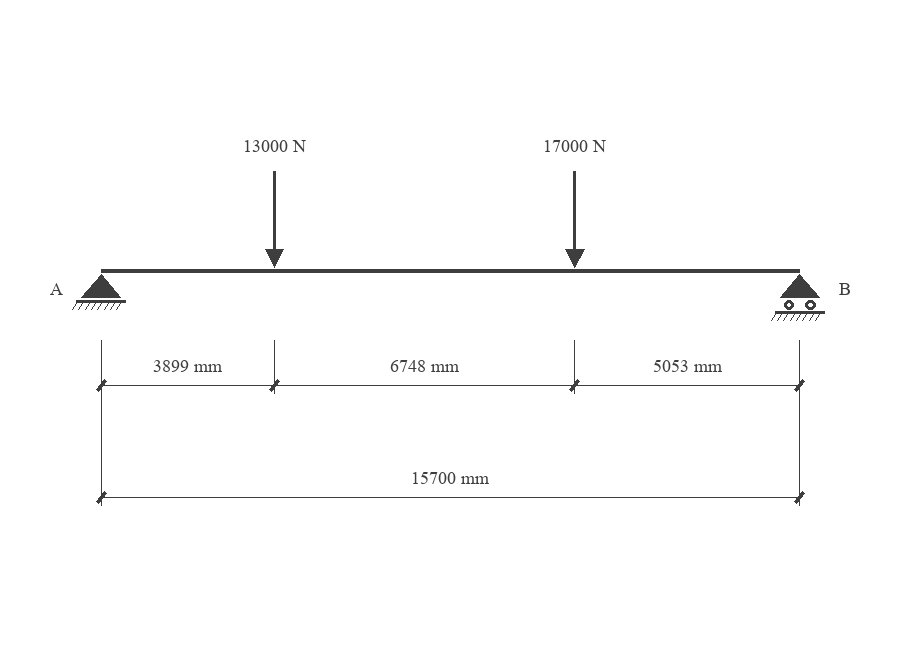pin_support: (72, 274, 126, 310)
point_load: (565, 171, 585, 268), (265, 171, 284, 268)
roller_support: (771, 274, 825, 321)
